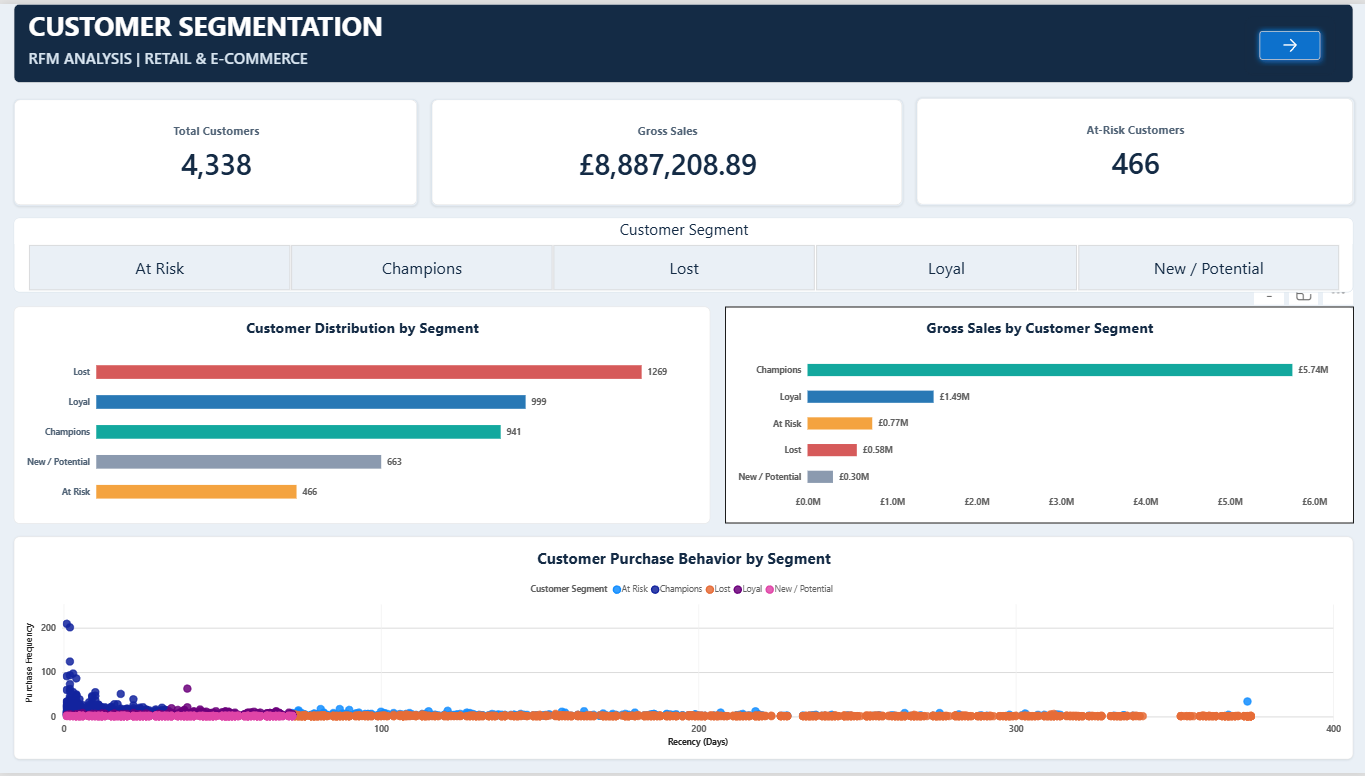

The dashboard page shown, as its layout file describes it:
{"tool":"powerbi","page":{"name":"Customer Segmentation","canvas":[1920,1080],"ordinal":0},"visuals":[{"type":"cardVisual","fields":{"Data":["Count(customer_rfm.CustomerID)"]},"box":[20,132.5,567.5,150],"z":0},{"type":"cardVisual","fields":{"Data":["Sum(customer_rfm.Monetary)"]},"box":[605,132.5,662.5,150],"z":1000},{"type":"cardVisual","fields":{"Data":["Count(customer_rfm.CustomerID)"]},"box":[1285.1,131.9,614.9,151.1],"z":2000},{"type":"clusteredBarChart","title":"Customer Distribution by Segment","fields":{"Category":["customer_rfm.Segment"],"Y":["Count(customer_rfm.CustomerID)"]},"box":[20,425,977.5,305],"z":3000},{"type":"clusteredBarChart","title":"Gross Sales by Customer Segment ","fields":{"Category":["customer_rfm.Segment"],"Y":["Sum(customer_rfm.Monetary)"]},"box":[1017.5,425,882.5,305],"z":4000},{"type":"scatterChart","title":"Customer Purchase Behavior by Segment","fields":{"Category":["customer_rfm.CustomerID"],"Series":["customer_rfm.Segment"],"X":["Avg(customer_rfm.Recency)"],"Y":["Avg(customer_rfm.Frequency)"]},"box":[20,747.5,1880,312.5],"z":5000},{"type":"slicer","title":"Customer Segment","fields":{"Values":["customer_rfm.Segment"]},"box":[20,300,1880,105],"z":6000},{"type":"textbox","title":"CUSTOMER SEGMENTATION","box":[20,0,1880,110],"z":7000},{"type":"actionButton","box":[1748.3,20,123.3,78.3],"z":7001}]}

Visuals, with their boxes in screenshot pixels (x1, y1, x2, y2), scaled from the page's 1920x1080 canvas onto the 1365x776 screenshot:
cardVisual - Count(customer_rfm.CustomerID): region(14, 95, 418, 203)
cardVisual - Sum(customer_rfm.Monetary): region(430, 95, 901, 203)
cardVisual - Count(customer_rfm.CustomerID): region(914, 95, 1351, 203)
"Customer Distribution by Segment" clusteredBarChart: region(14, 305, 709, 525)
"Gross Sales by Customer Segment " clusteredBarChart: region(723, 305, 1351, 525)
"Customer Purchase Behavior by Segment" scatterChart: region(14, 537, 1351, 762)
"Customer Segment" slicer: region(14, 216, 1351, 291)
"CUSTOMER SEGMENTATION" textbox: region(14, 0, 1351, 79)
actionButton: region(1243, 14, 1331, 71)
